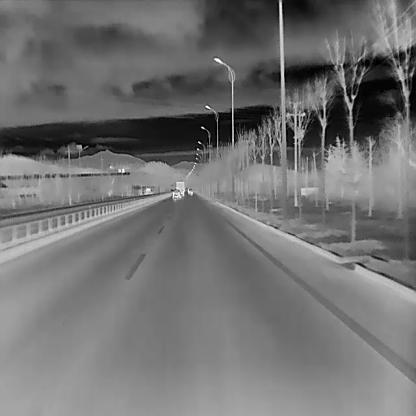car: (171, 188, 181, 200), (188, 188, 192, 194)
truck: (174, 180, 184, 196)
